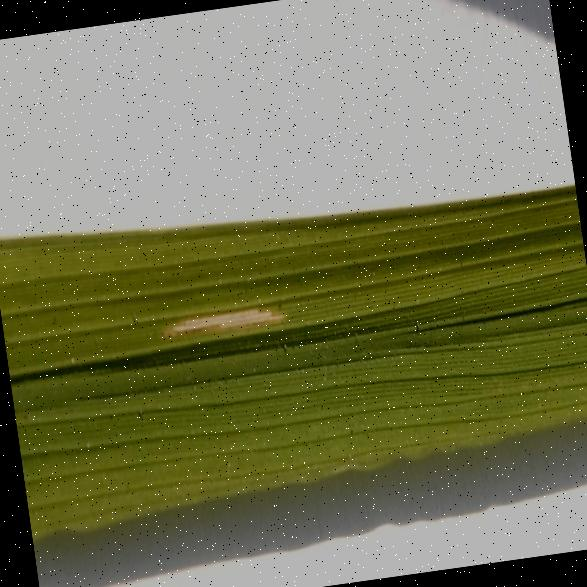Bacteria_Leaf_Blight: (108, 240, 377, 421)
